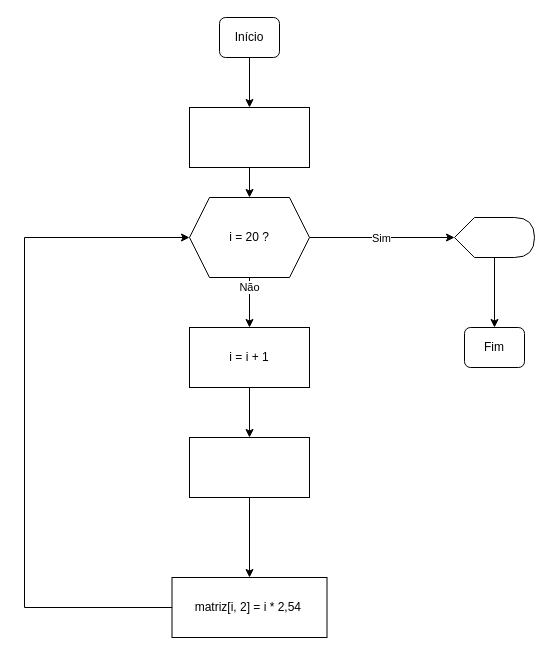
Some shapes in this 552 by 655 pixel diagram are drawn without their labels. The shapes that lost their labels are listed below. From the top down, each one's centre as x and y in pixels, then its label:
At (249,137): "i = 0".
At (494,237): "matriz".
At (249,467): "matriz[i, 1] = i".
